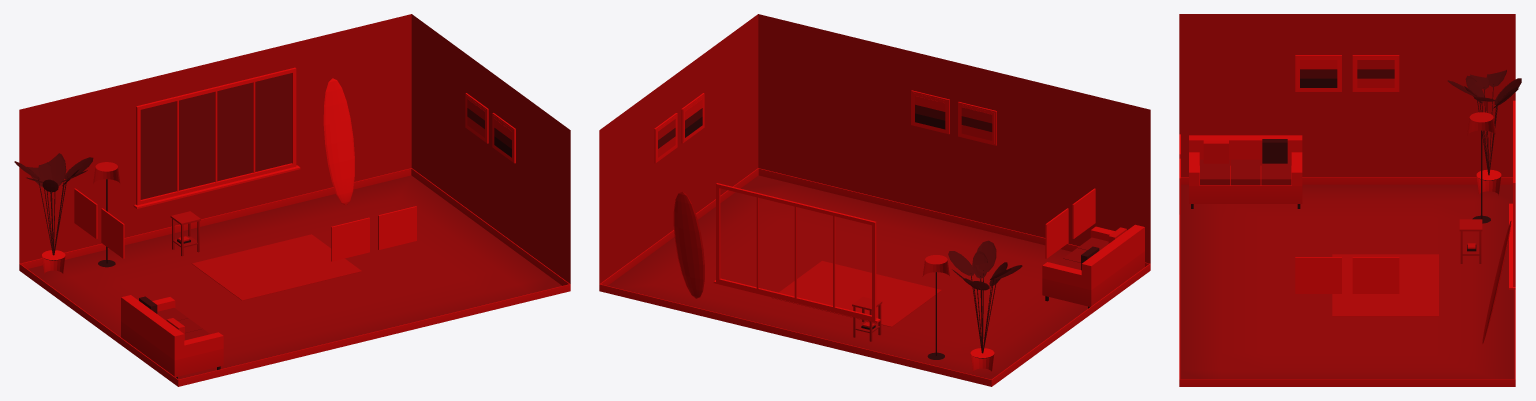
The model's file is room_beach.glb.
3 renders of one model, left to right at view 1: azimuth 30°, elevation 25°; view 2: azimuth 150°, elevation 25°; view 3: azimuth 270°, elevation 25°, orthographic. The views are drawn at different scales.
Parts seen in each view (by area): view 1: Shell, CenterWindow, TankRug, CenterSofa, RightSurf, CenterArtF, CenterPlantCorner, CenterArtLW, CenterArtRW, LeftTable, LeftLamp; view 2: Shell, CenterSofa, TankRug, CenterWindow, CenterArtF, CenterPlantCorner, RightSurf, CenterArtRW, CenterArtLW, LeftLamp, LeftTable; view 3: Shell, CenterSofa, TankRug, CenterArtLW, CenterArtRW, CenterPlantCorner, CenterWindow, LeftLamp, LeftTable, RightSurf.
Boxes of the visible parts, <box> form: Shell: <box>19,14,570,386</box>; CenterWindow: <box>133,67,300,208</box>; TankRug: <box>192,234,361,300</box>; CenterSofa: <box>121,295,223,378</box>; RightSurf: <box>323,78,354,205</box>; CenterArtF: <box>331,206,416,261</box>; CenterPlantCorner: <box>14,153,93,273</box>; CenterArtLW: <box>74,188,124,258</box>; CenterArtRW: <box>465,93,515,163</box>; LeftTable: <box>170,211,200,256</box>; LeftLamp: <box>93,162,120,267</box>; Shell: <box>599,14,1150,386</box>; CenterSofa: <box>1042,224,1144,308</box>; TankRug: <box>772,261,941,326</box>; CenterWindow: <box>713,183,880,322</box>; CenterArtF: <box>911,90,996,145</box>; CenterPlantCorner: <box>948,240,1022,371</box>; RightSurf: <box>673,191,704,298</box>; CenterArtRW: <box>654,93,704,163</box>; CenterArtLW: <box>1045,188,1095,258</box>; LeftLamp: <box>922,255,949,359</box>; LeftTable: <box>852,296,882,341</box>; Shell: <box>1179,14,1515,386</box>; CenterSofa: <box>1189,135,1302,208</box>; TankRug: <box>1332,254,1438,316</box>; CenterArtLW: <box>1295,55,1399,91</box>; CenterArtRW: <box>1295,257,1399,293</box>; CenterPlantCorner: <box>1447,70,1521,195</box>; CenterWindow: <box>1509,100,1515,289</box>; LeftLamp: <box>1467,112,1495,223</box>; LeftTable: <box>1459,219,1482,263</box>; RightSurf: <box>1482,221,1511,343</box>.
Size of the model in its own units: 741 by 282 by 514.
